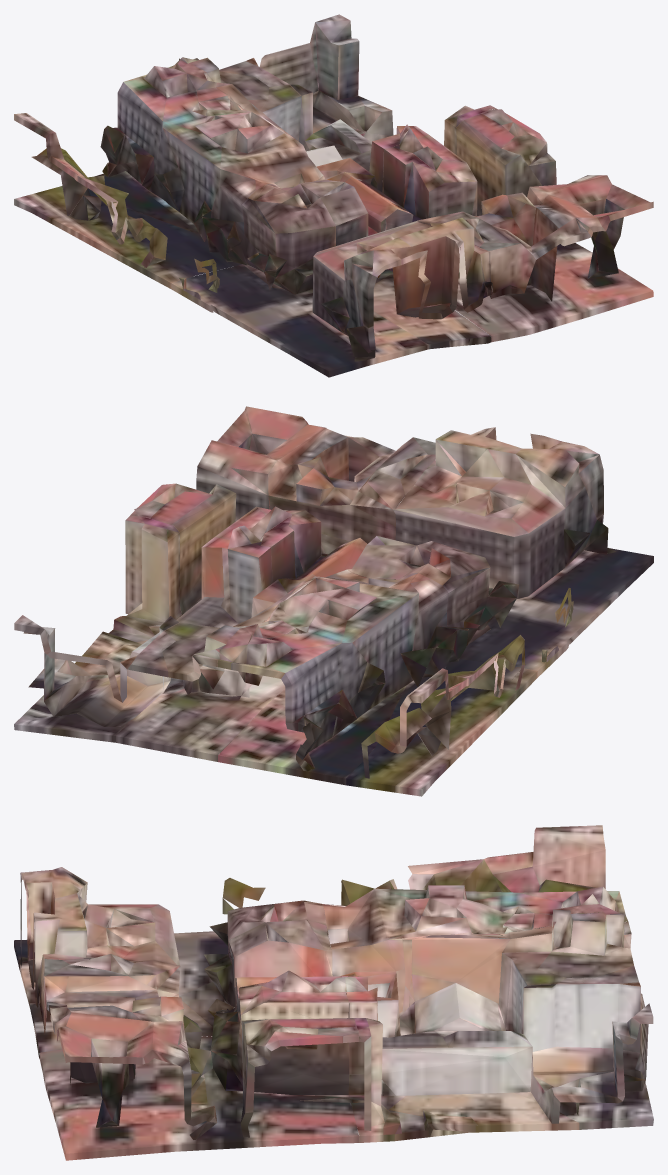
3 views of the same model, one above another, from view 1: azimuth 30°, elevation 25°; view 2: azimuth 150°, elevation 25°; view 3: azimuth 270°, elevation 25° (orthographic). The views are drawn at different scales.
Parts seen in each view (by area): view 1: Mesh_0; view 2: Mesh_0; view 3: Mesh_0.
Part boxes in pixels (x1,y1,x2,y2): Mesh_0: (14, 14, 653, 377); Mesh_0: (14, 406, 653, 796); Mesh_0: (14, 825, 653, 1160).
Size of the model in its own units: 133 by 38.37 by 165.
Materials: 1 (1 with a texture image).
